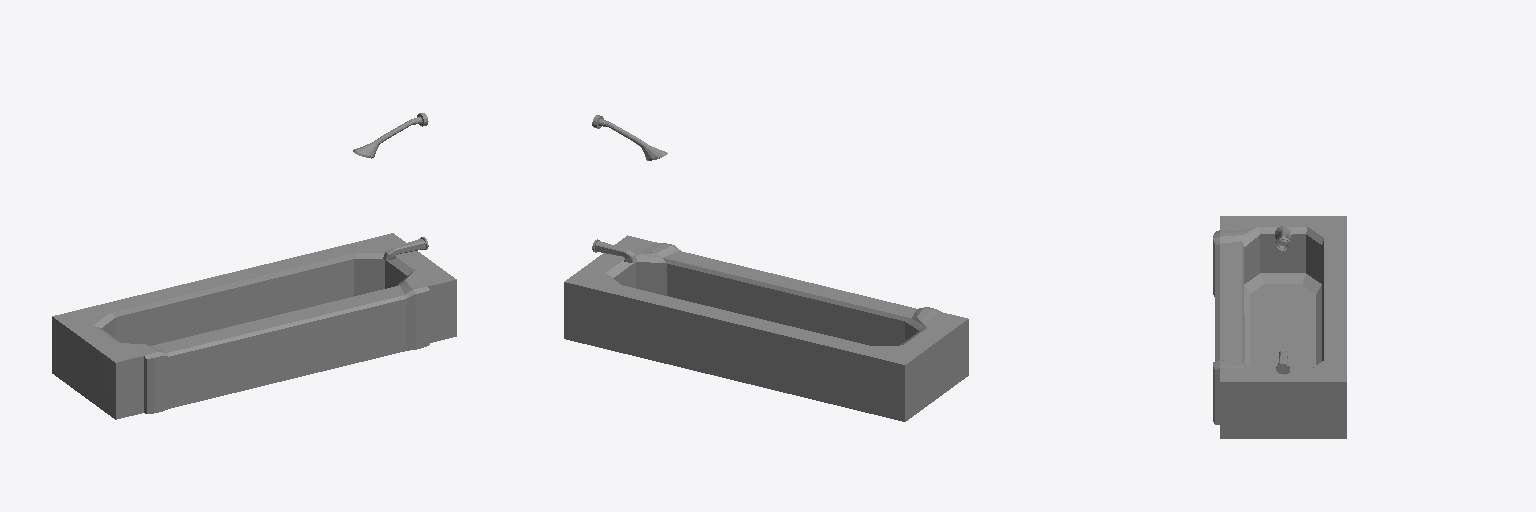
The model's file is Room_301_0_2.obj.
The picture shows the model from 3 angles: view 1: azimuth 30°, elevation 25°; view 2: azimuth 150°, elevation 25°; view 3: azimuth 270°, elevation 25°; orthographic projection.
Parts seen in each view (by area): view 1: Bathtub; view 2: Bathtub; view 3: Bathtub.
Boxes of the visible parts, x1=… form: Bathtub: x1=52, y1=113, x2=456, y2=419; Bathtub: x1=564, y1=115, x2=968, y2=421; Bathtub: x1=1213, y1=216, x2=1346, y2=438.
Bounding box in the file's own units: 4.51 × 2.53 × 1.53.